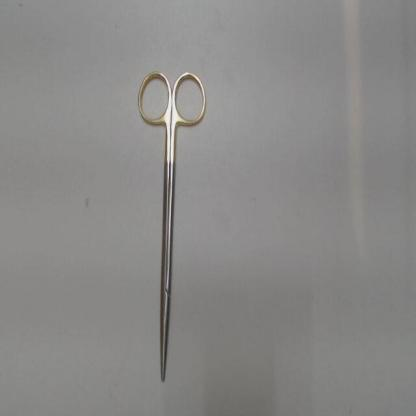7 Metzenbaum Scissors: (135, 66, 210, 388)
